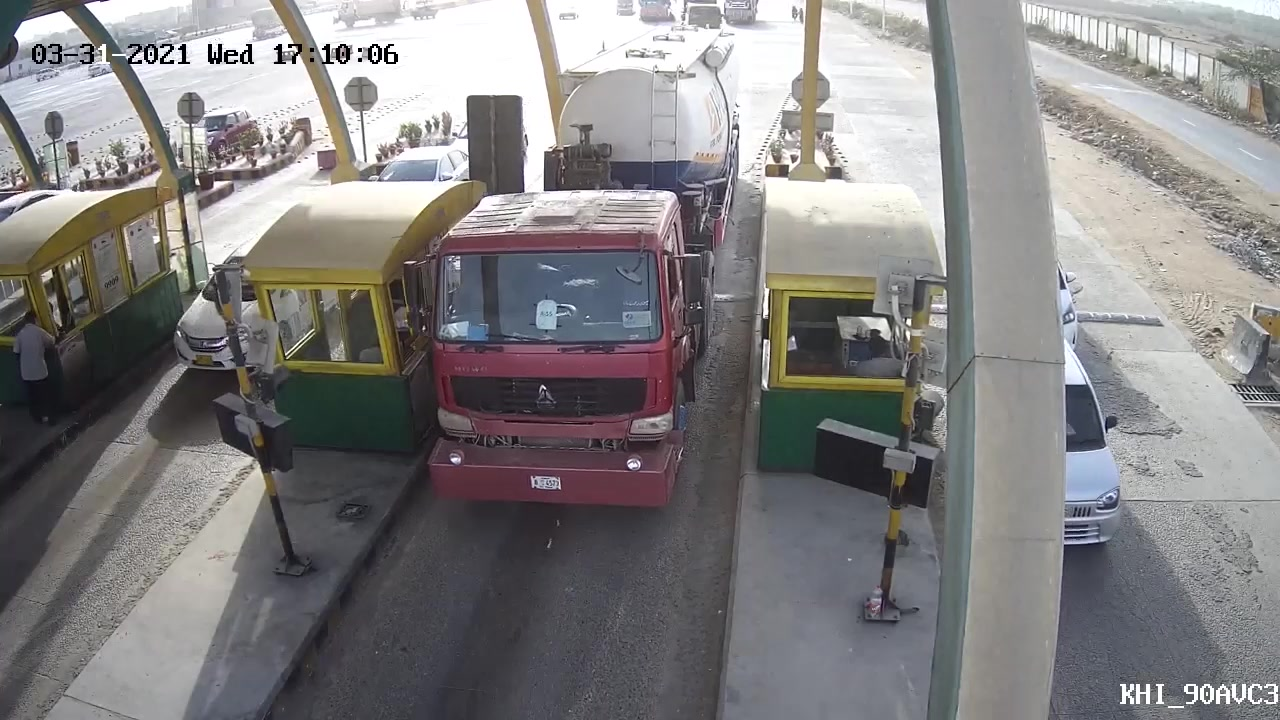F6: (416, 22, 752, 519)
